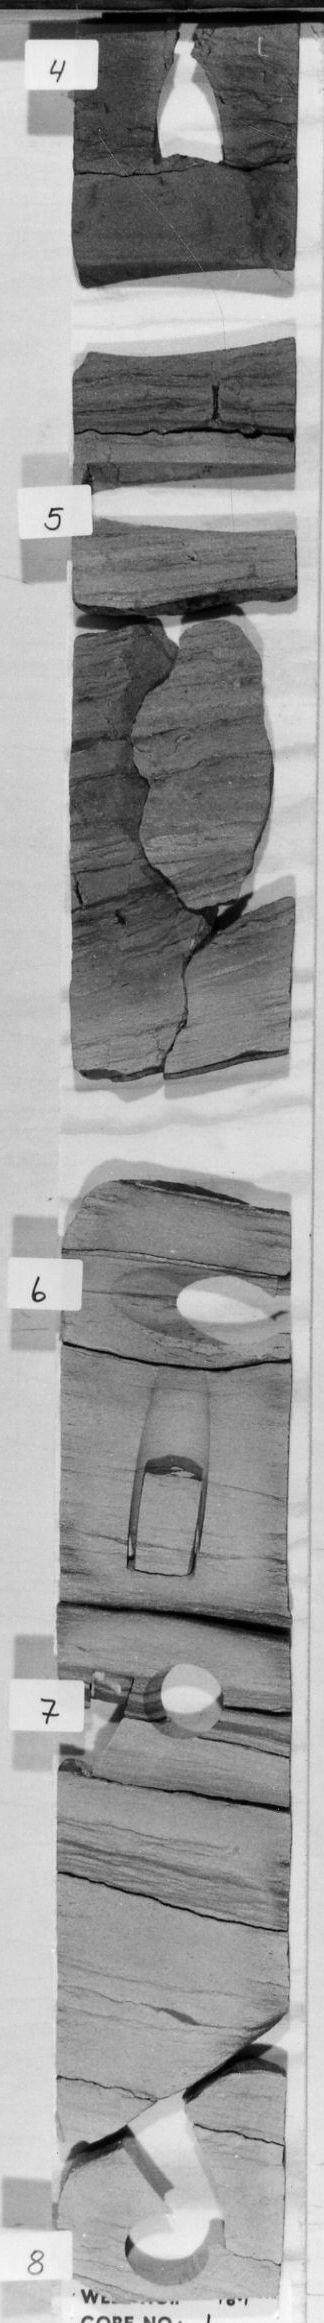hplug: (78, 453, 294, 548), (104, 1253, 283, 1353), (144, 1658, 237, 1747), (117, 2216, 217, 2290)
scal: (75, 249, 294, 379)
vplug: (123, 1367, 213, 1588), (142, 19, 240, 167), (117, 2087, 226, 2213), (70, 1661, 141, 1776)
